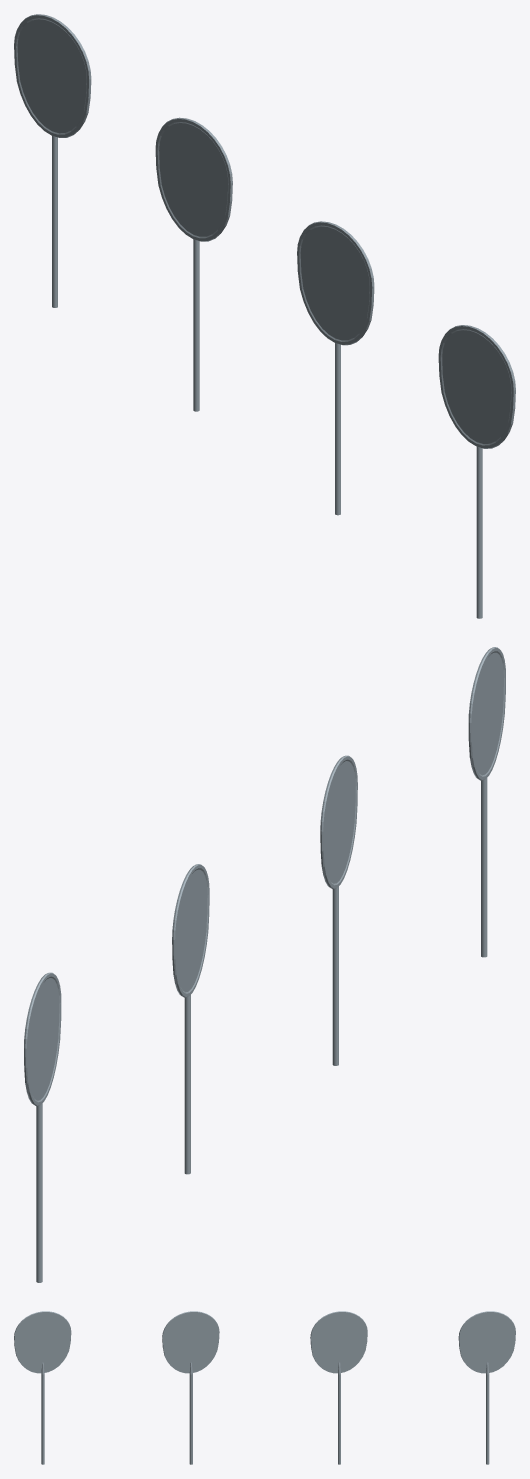
File: 11_openskp_material_54.obj
The picture shows the model from 3 angles, top to bottom: view 1: azimuth 30°, elevation 25°; view 2: azimuth 150°, elevation 25°; view 3: azimuth 270°, elevation 25°; orthographic projection. The views are drawn at different scales.
Visible parts, largest first — view 1: 11_openskp_material_54; view 2: 11_openskp_material_54; view 3: 11_openskp_material_54.
Part boxes in pixels (x1,y1,x2,y2): 11_openskp_material_54: (14,14,515,618); 11_openskp_material_54: (24,647,505,1282); 11_openskp_material_54: (14,1311,515,1464).
Bounding box in the file's own units: 1.49 × 17.41 × 52.12.
